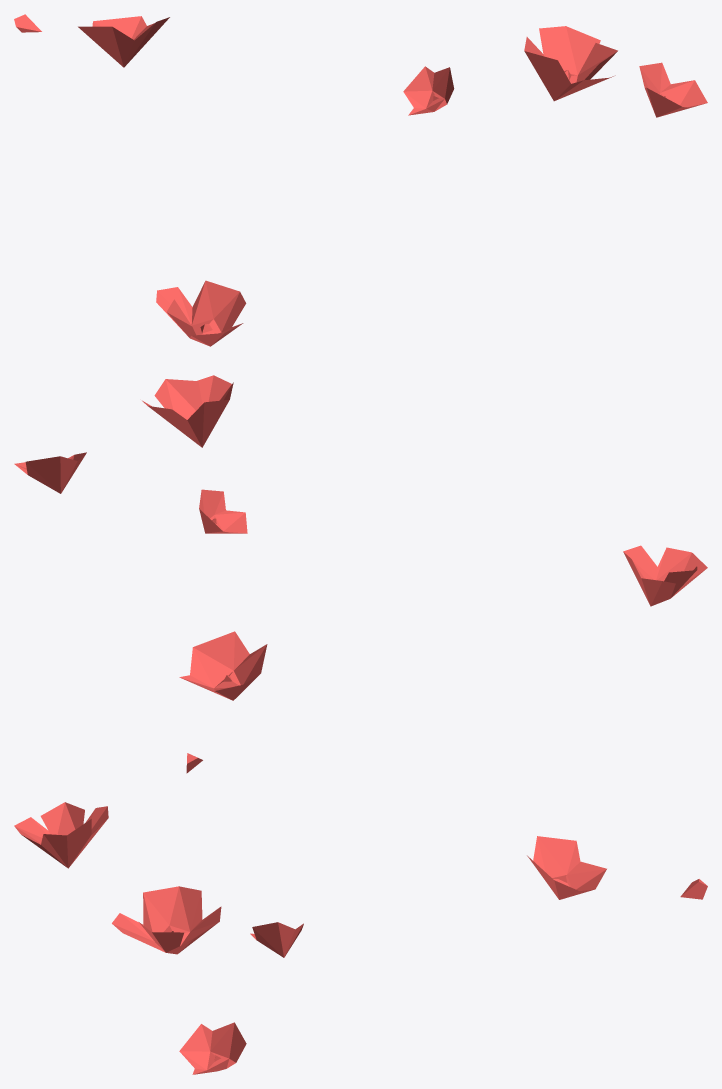
File: zone3-c24.glb
3 renders of one model, top to bottom at view 1: azimuth 30°, elevation 25°; view 2: azimuth 150°, elevation 25°; view 3: azimuth 270°, elevation 25°, orthographic. The views are drawn at different scales.
Parts seen in each view (by area): view 1: flower-poppy-floating-group-a.001; view 2: flower-poppy-floating-group-a.001; view 3: flower-poppy-floating-group-a.001.
Boxes of the visible parts, x1,y1,x2,y2 form: flower-poppy-floating-group-a.001: [14, 14, 707, 346]; flower-poppy-floating-group-a.001: [14, 375, 707, 773]; flower-poppy-floating-group-a.001: [14, 802, 707, 1074].
Bounding box in the file's own units: 63.77 × 16.43 × 65.28.
